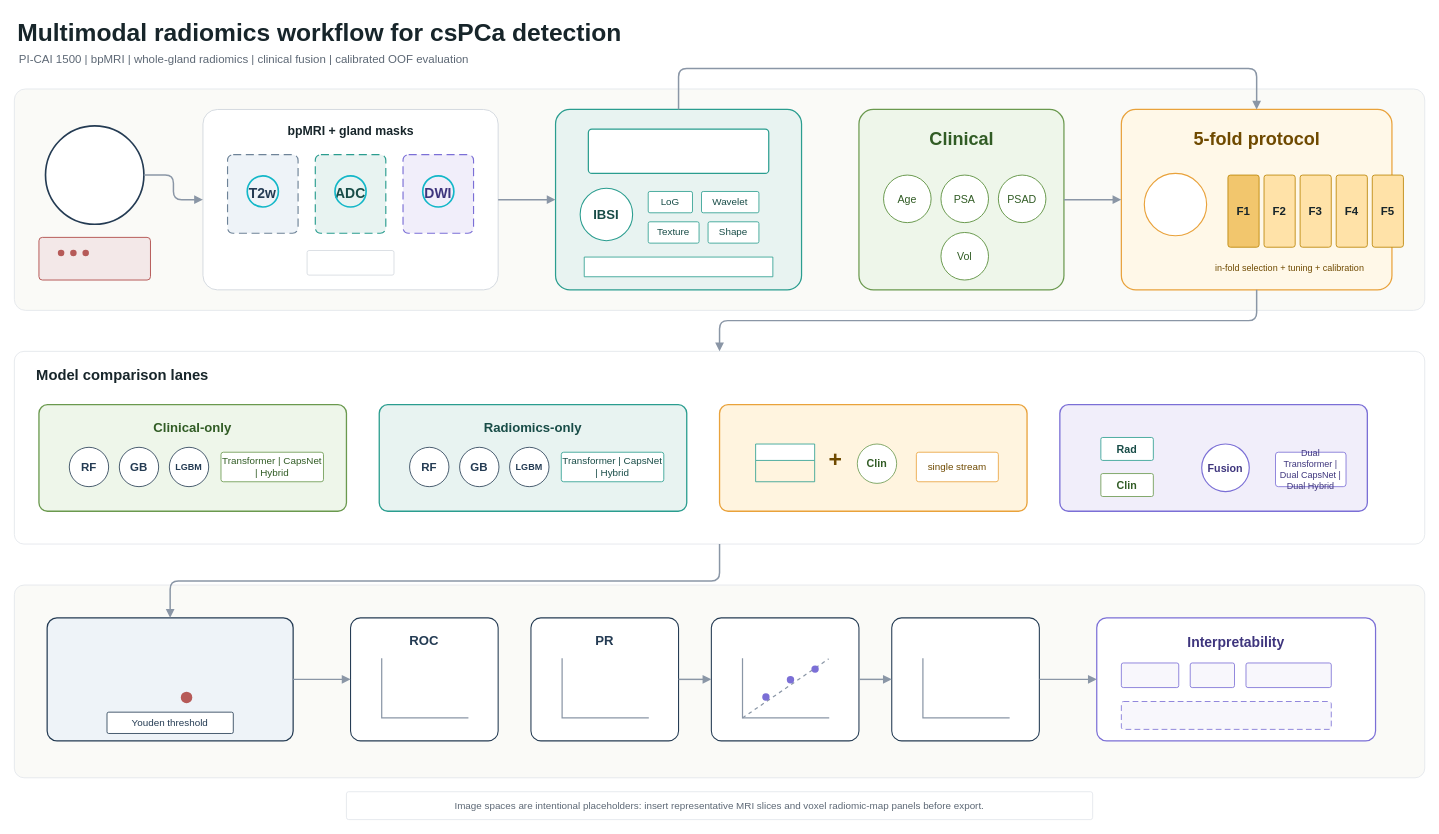
This 1439x834 diagram has some shape labels left out. Each missing label, with the box of its shape:
1,476 patients 425 csPCa+: (38, 236, 151, 280)
Calibration: (710, 617, 859, 741)
Concatenation: (718, 404, 1027, 512)
DCA: (891, 617, 1040, 741)
Dual-branch fusion: (1059, 404, 1368, 512)
feature map placeholders: (1121, 701, 1331, 729)
IG: (1189, 662, 1235, 688)
LOCK: (1143, 172, 1207, 236)
no DCE: (306, 250, 394, 275)
OOF calibrated probabilities: (46, 617, 293, 741)
Permutation: (1245, 662, 1331, 688)
PI-CAI 1500: (44, 125, 144, 225)
PyRadiomics: (587, 128, 769, 174)
SHAP: (1121, 662, 1179, 688)
